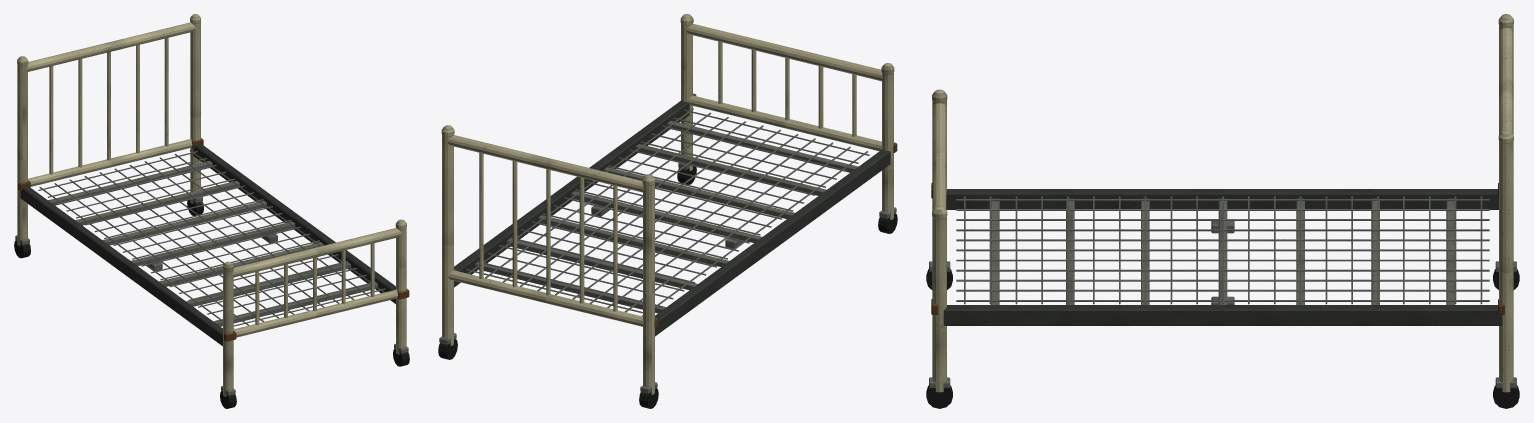
Rendered from bedframe_single_institutional.glb.
The picture shows the model from 3 angles, left to right: view 1: azimuth 30°, elevation 25°; view 2: azimuth 150°, elevation 25°; view 3: azimuth 270°, elevation 25°; orthographic projection. The views are drawn at different scales.
Visible parts, largest first — view 1: F04_bedframe_single_institutional; view 2: F04_bedframe_single_institutional; view 3: F04_bedframe_single_institutional.
Part boxes in pixels (x1,y1,x2,y2): F04_bedframe_single_institutional: (14,14,409,408); F04_bedframe_single_institutional: (438,14,897,408); F04_bedframe_single_institutional: (926,14,1519,408).
Bounding box in the file's own units: 1.05 × 1.1 × 2.14.
Materials: 5 (4 with a texture image).
